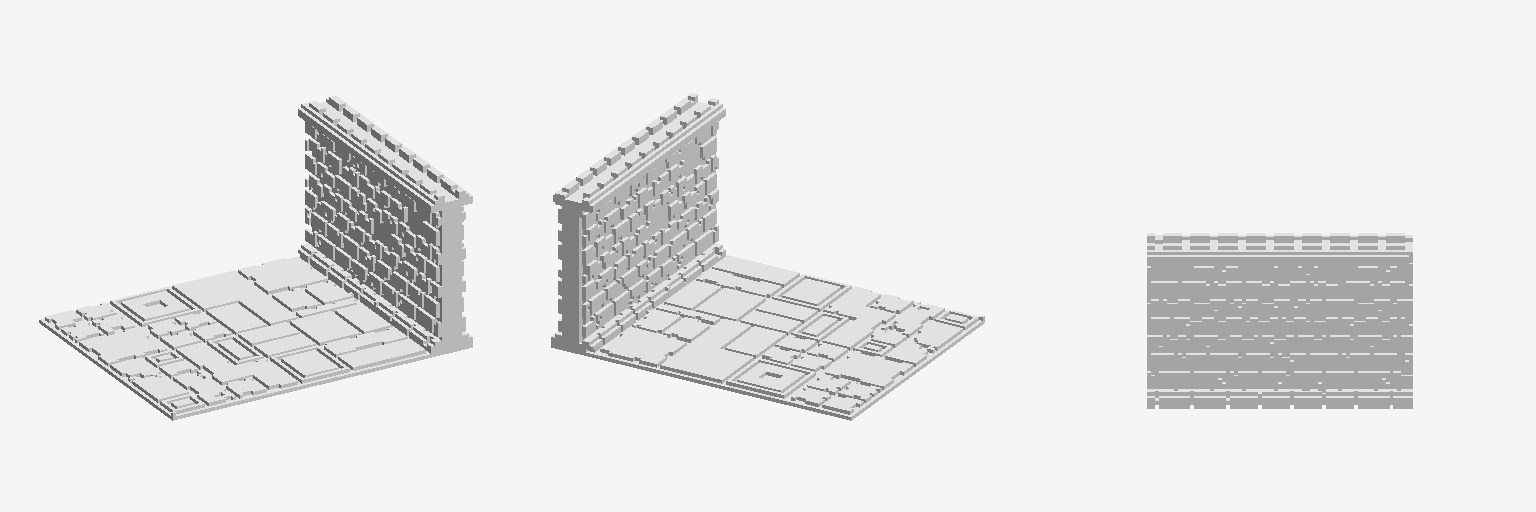
File: wall_E_solo_izquierda.obj
The picture shows the model from 3 angles: view 1: azimuth 30°, elevation 25°; view 2: azimuth 150°, elevation 25°; view 3: azimuth 270°, elevation 25°; orthographic projection.
Bounding box in the file's own units: 87 × 44 × 67.